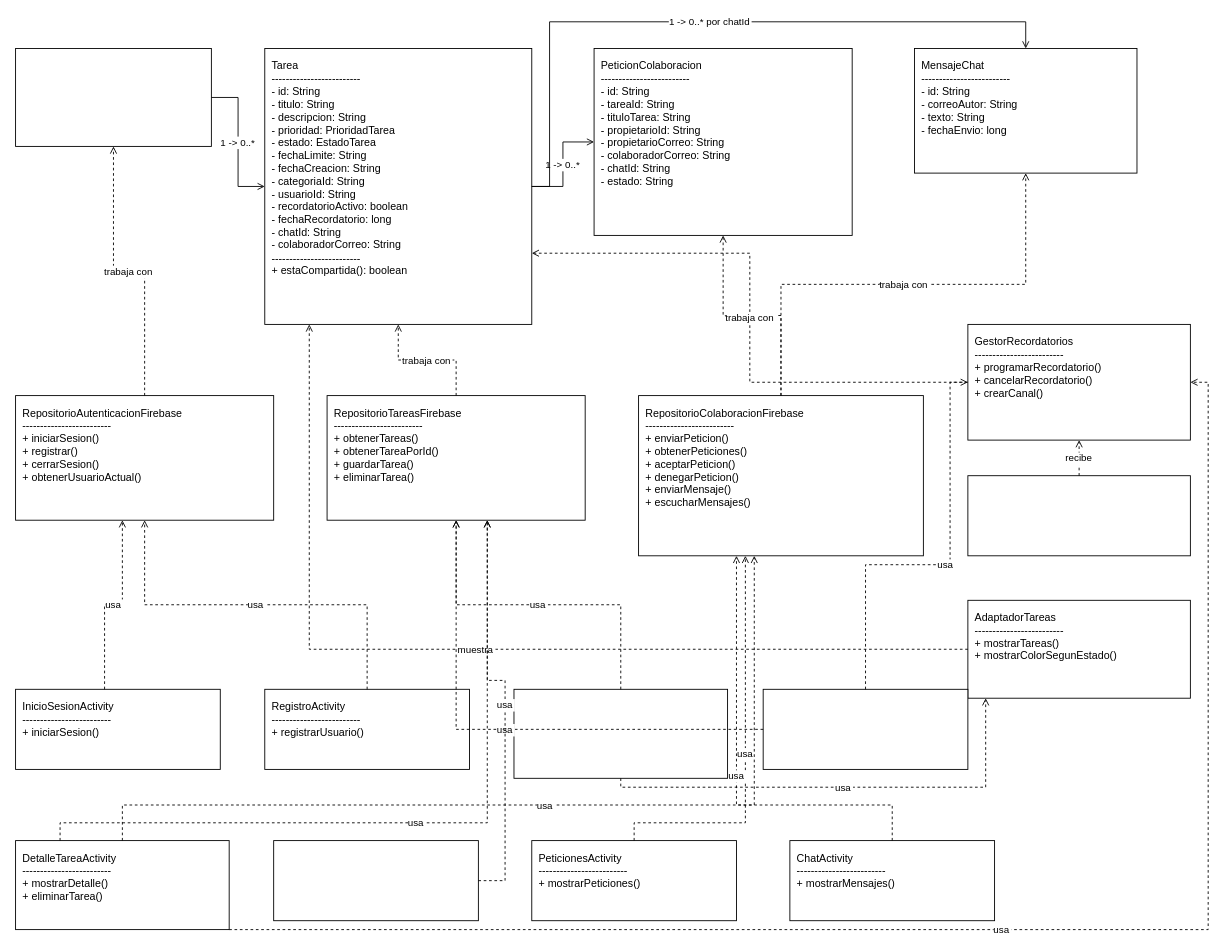
Image size: 1231x952. Some labels were removed from this diagram. The box of each missing label's shape, as (x1, y1, x2, y2) in pixels:
CalendarioActivity ------------------------- + mostrarCalendario(): (273, 840, 478, 921)
CrearTareaActivity ------------------------- + crearTarea(): (762, 688, 968, 769)
PrincipalActivity ------------------------- + mostrarTareas() + ordenarTareas(): (513, 688, 728, 778)
ReceptorRecordatorio ------------------------- + onReceive(): (967, 475, 1190, 556)
Usuario ------------------------- - id: String - nombre: String - correo: String: (15, 48, 211, 146)
